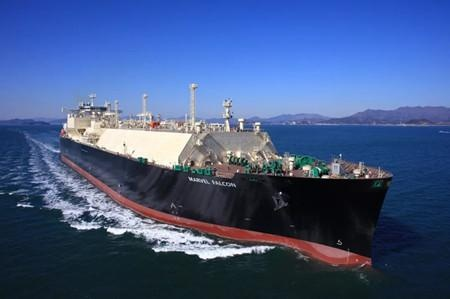Cargoship: (55, 83, 398, 282)
